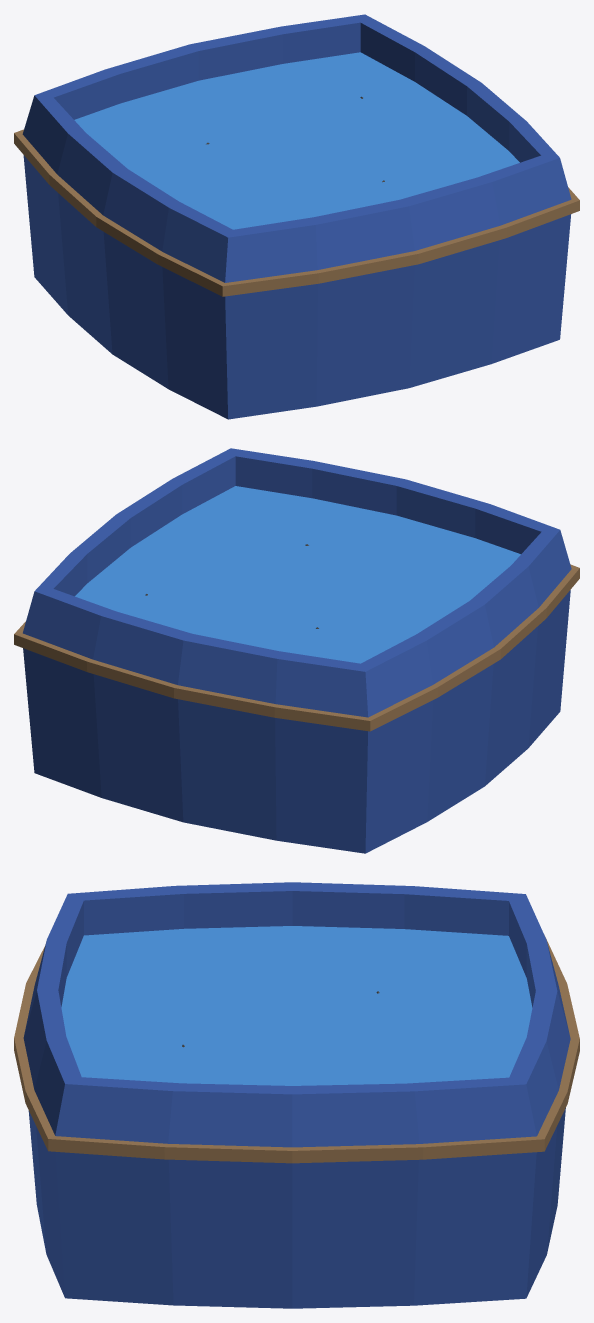
File: Kolam_ada.fbx
3 views of the same model, one above another, from view 1: azimuth 30°, elevation 25°; view 2: azimuth 150°, elevation 25°; view 3: azimuth 270°, elevation 25° (orthographic). The views are drawn at different scales.
Visible parts, largest first — view 1: Bak.001; view 2: Bak.001; view 3: Bak.001.
Boxes of the visible parts, x1,y1,x2,y2 form: Bak.001: (14, 14, 579, 419); Bak.001: (14, 448, 579, 853); Bak.001: (14, 882, 579, 1308).
Bounding box in the file's own units: 232 × 100 × 240.
